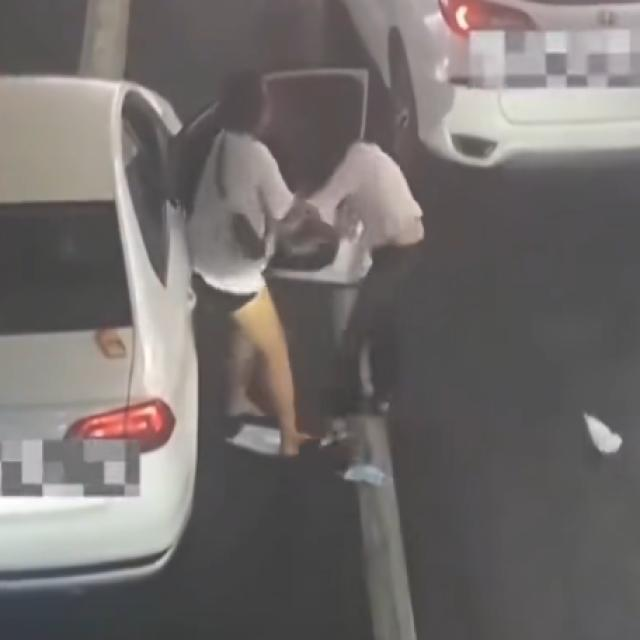fight: (205, 78, 426, 274)
